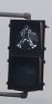walk: (8, 18, 45, 56)
